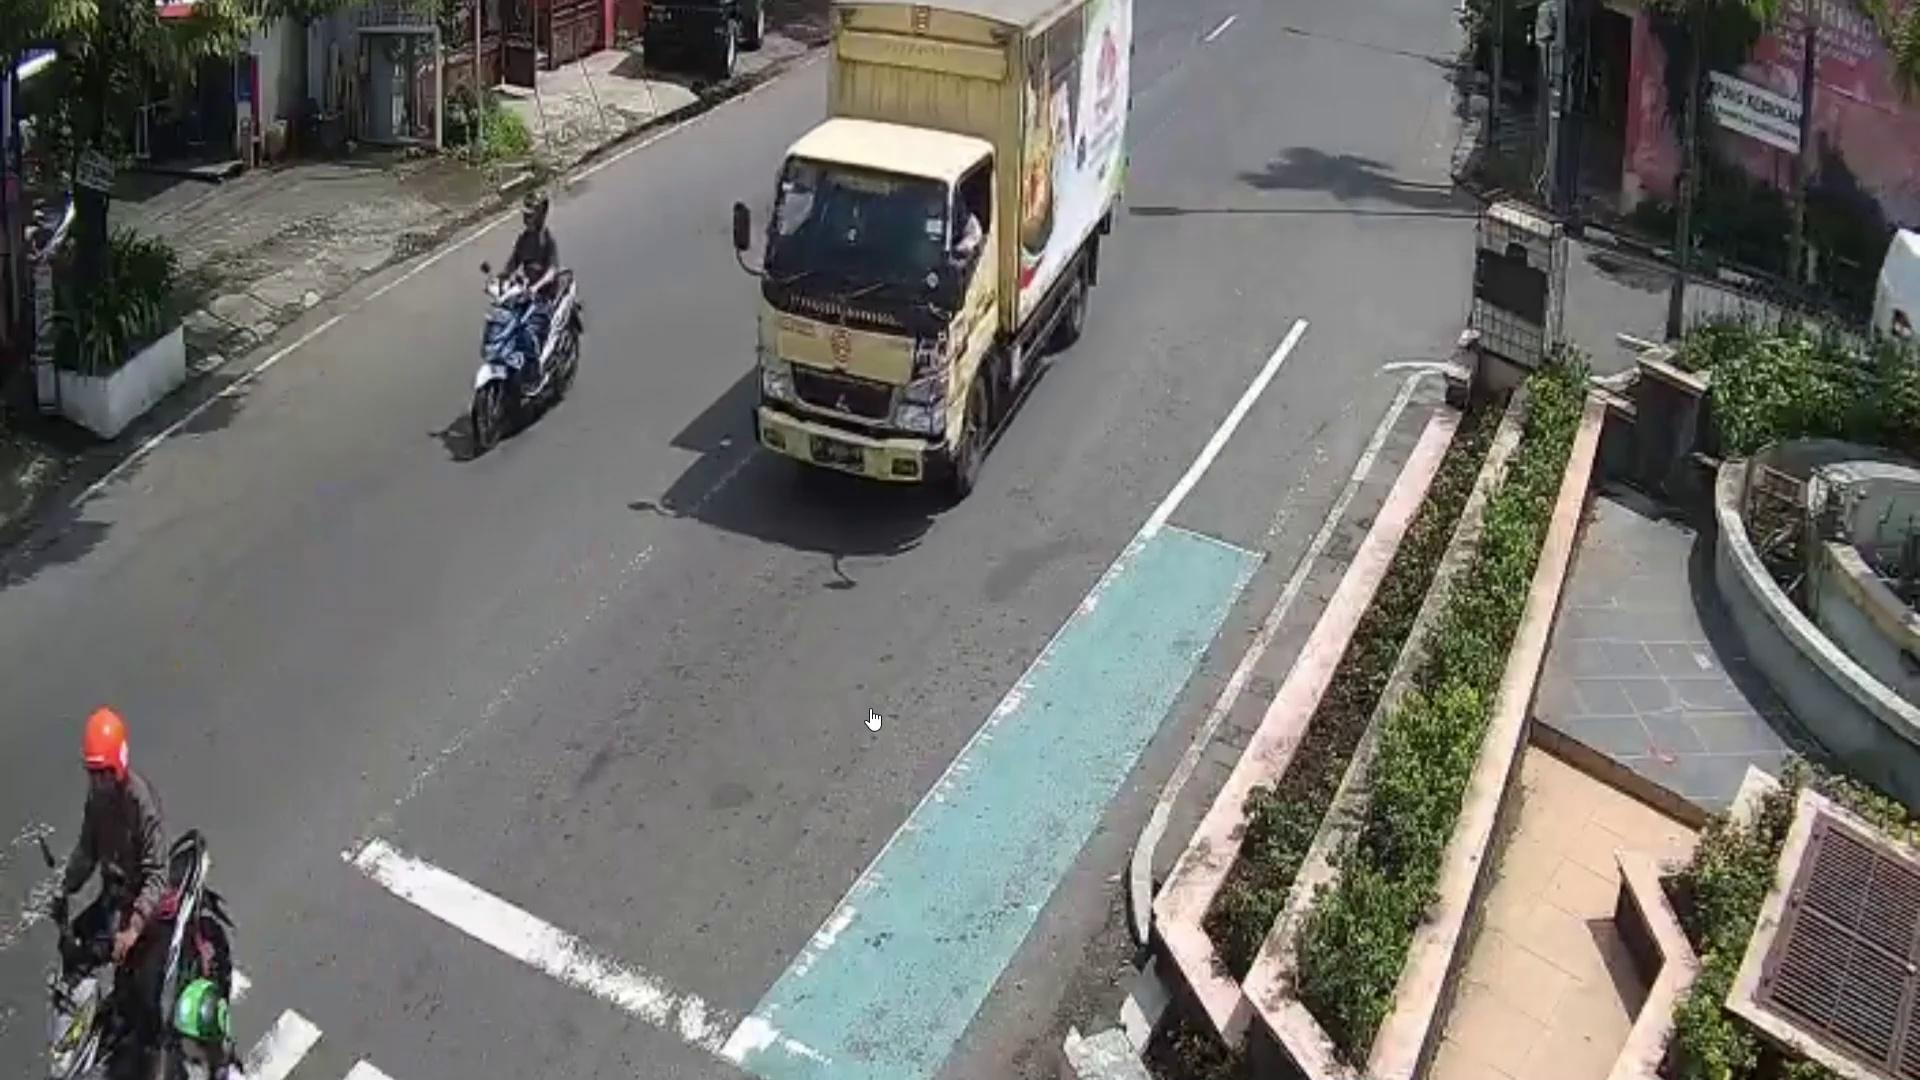motorbike: (32, 823, 236, 1080), (476, 272, 584, 452)
truck: (756, 5, 1130, 500)
